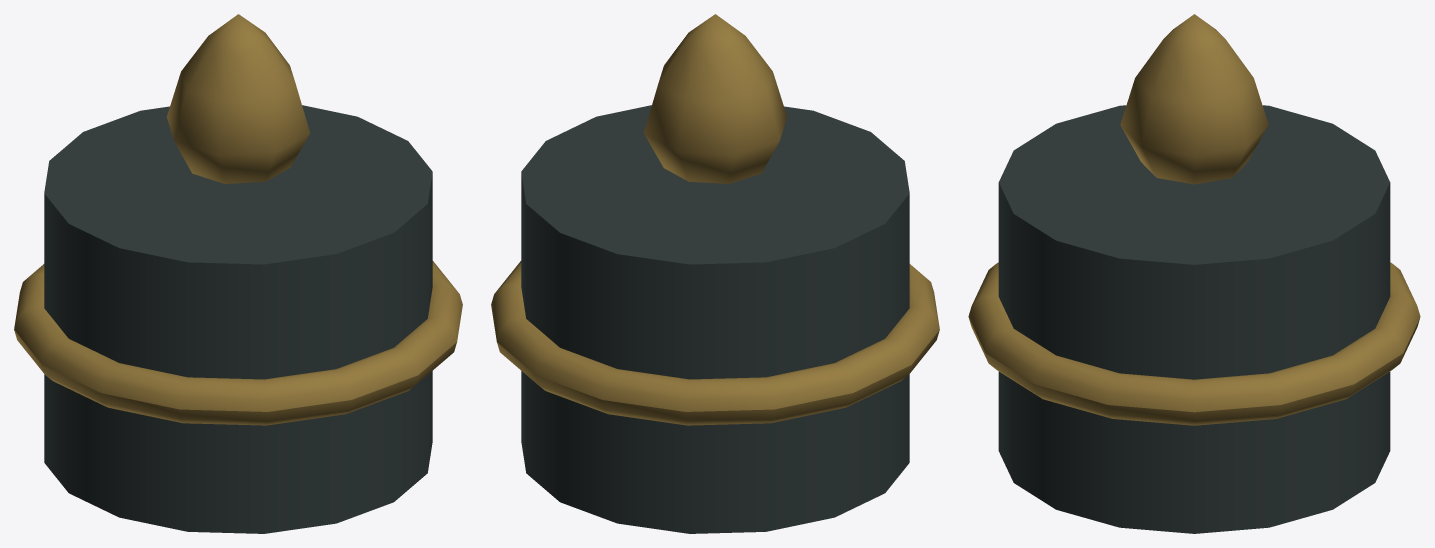
The model's file is turbo_ether.obj.
The picture shows the model from 3 angles, left to right: view 1: azimuth 30°, elevation 25°; view 2: azimuth 150°, elevation 25°; view 3: azimuth 270°, elevation 25°; orthographic projection.
Parts seen in each view (by area): view 1: turbo_ether; view 2: turbo_ether; view 3: turbo_ether.
Part boxes in pixels (x1,y1,x2,y2): turbo_ether: [14, 14, 462, 533]; turbo_ether: [491, 14, 939, 533]; turbo_ether: [968, 14, 1420, 533].
Size of the model in its own units: 1.34 by 1.43 by 1.34.
